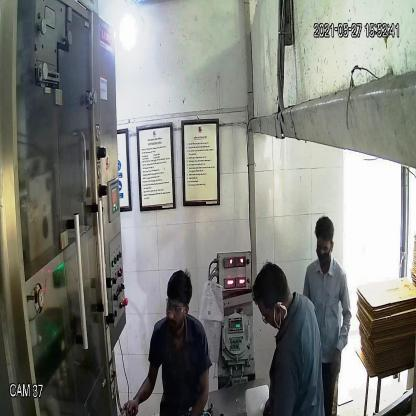goggles: (164, 296, 190, 316)
no_goggles: (314, 239, 332, 253)
